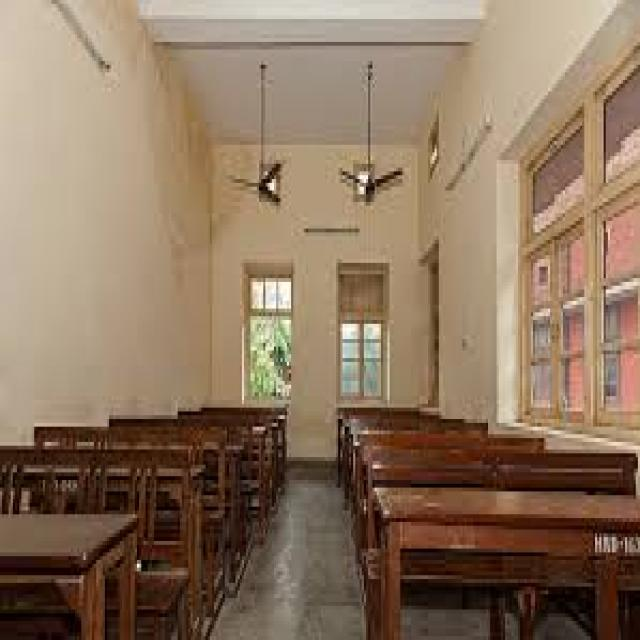bench ahead at: (364, 476, 638, 640), (0, 503, 139, 640), (5, 446, 206, 522)
